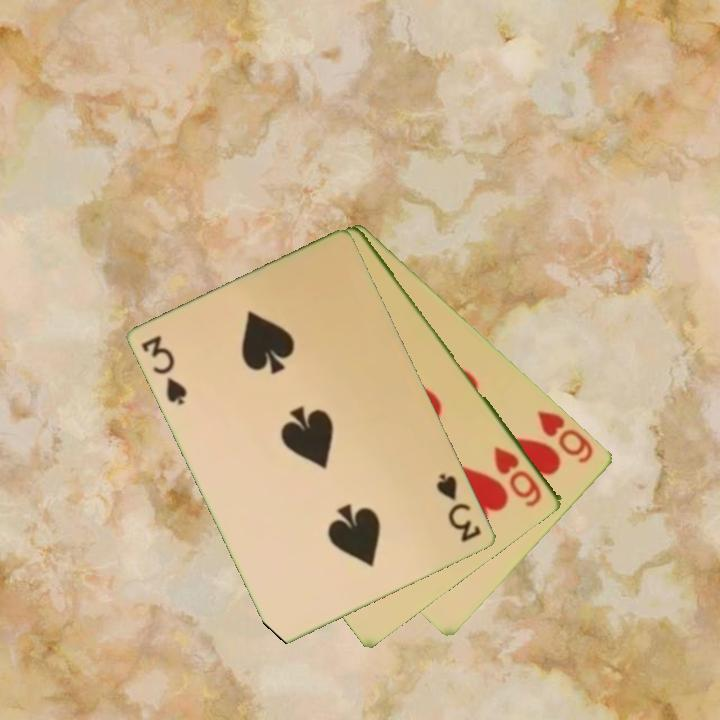3s: (138, 331, 191, 409), (433, 470, 485, 546)
6h: (533, 406, 597, 467), (491, 443, 546, 511)
